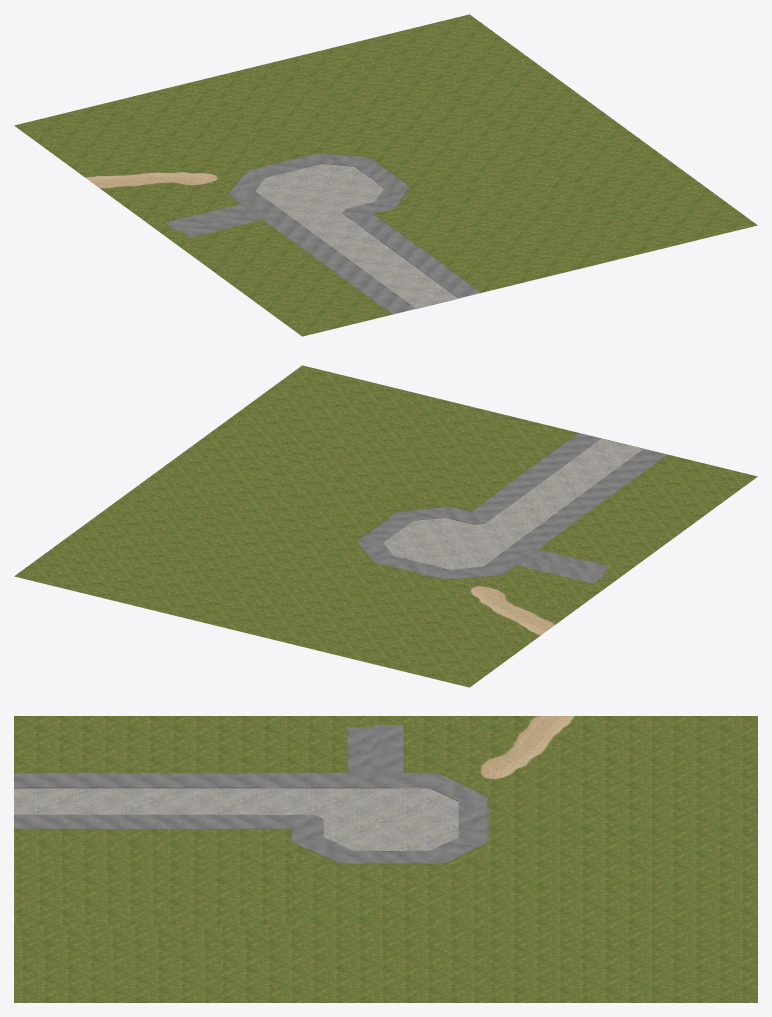
File: Ground.fbx
3 views of the same model, one above another, from view 1: azimuth 30°, elevation 25°; view 2: azimuth 150°, elevation 25°; view 3: azimuth 270°, elevation 25° (orthographic). The views are drawn at different scales.
Parts seen in each view (by area): view 1: Ground; view 2: Ground; view 3: Ground.
Part boxes in pixels (<box>): Ground: <box>14,14,757,336</box>; Ground: <box>14,365,757,687</box>; Ground: <box>14,716,757,1002</box>.
Size of the model in its own units: 26791 by 34.53 by 29369.
